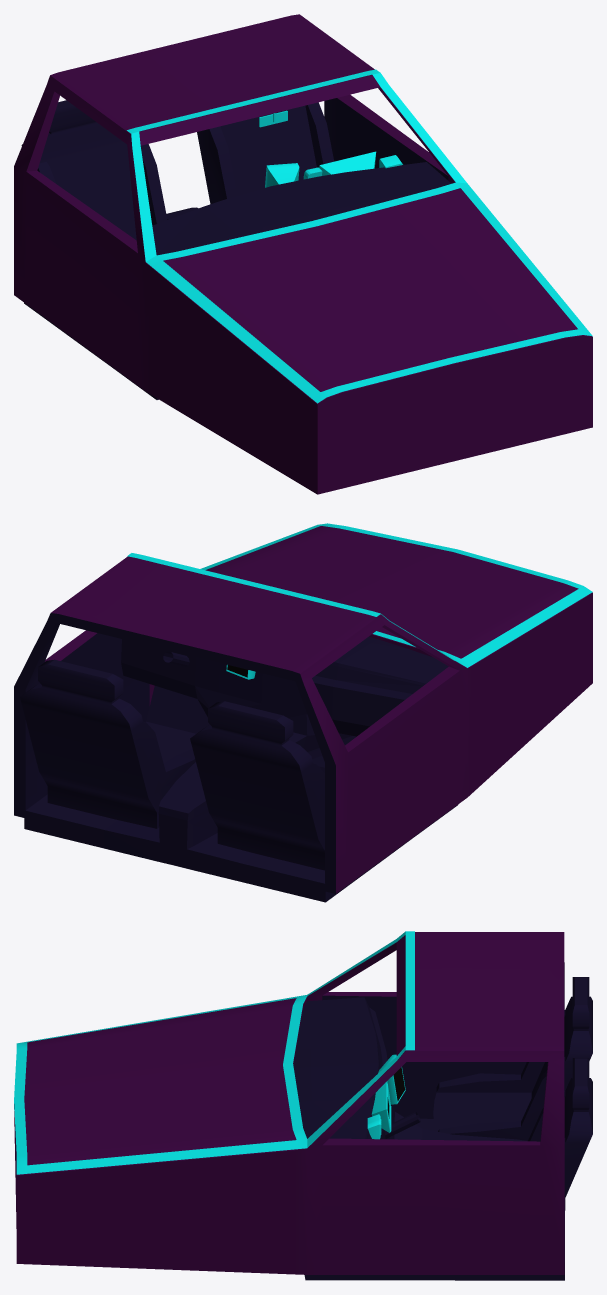
The model's file is Player_Car.fbx.
3 views of the same model, one above another, from view 1: azimuth 30°, elevation 25°; view 2: azimuth 150°, elevation 25°; view 3: azimuth 270°, elevation 25° (orthographic). The views are drawn at different scales.
Parts seen in each view (by area): view 1: pCube8, pCube9, pPlane3, pCube4, pCube3, Dashboard, Dashboard1; view 2: pCube8, pPlane3, pCube3, pCube4, pCube9; view 3: pCube8, pPlane3, pCube4, pCube9, pCube3, Dashboard, Dashboard1.
Boxes of the visible parts, box(x1,y1,x2,y2) form: pCube8: box(14, 14, 592, 494); pCube9: box(127, 69, 592, 403); pPlane3: box(24, 162, 451, 399); pCube4: box(21, 100, 167, 234); pCube3: box(197, 102, 334, 204); Dashboard: box(319, 151, 376, 175); Dashboard1: box(265, 163, 299, 187); pCube8: box(14, 526, 592, 893); pPlane3: box(24, 636, 457, 902); pCube3: box(20, 659, 195, 828); pCube4: box(190, 701, 324, 870); pCube9: box(127, 523, 592, 667); pCube8: box(14, 932, 564, 1274); pPlane3: box(293, 997, 565, 1280); pCube4: box(433, 977, 592, 1140); pCube9: box(14, 931, 414, 1174); pCube3: box(528, 1058, 592, 1198); Dashboard: box(371, 1083, 391, 1132); Dashboard1: box(378, 1054, 405, 1104).
Bounding box in the file's own units: 24.9 × 16.52 × 39.69.
